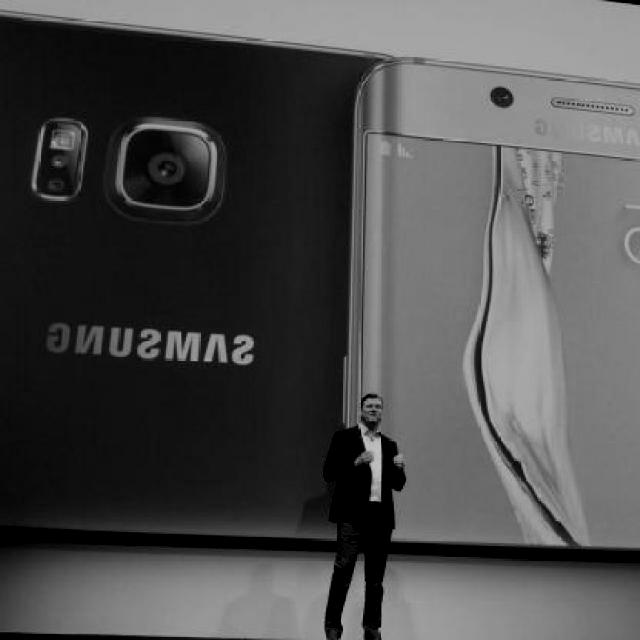fake: (0, 8, 398, 538), (352, 62, 608, 542)
